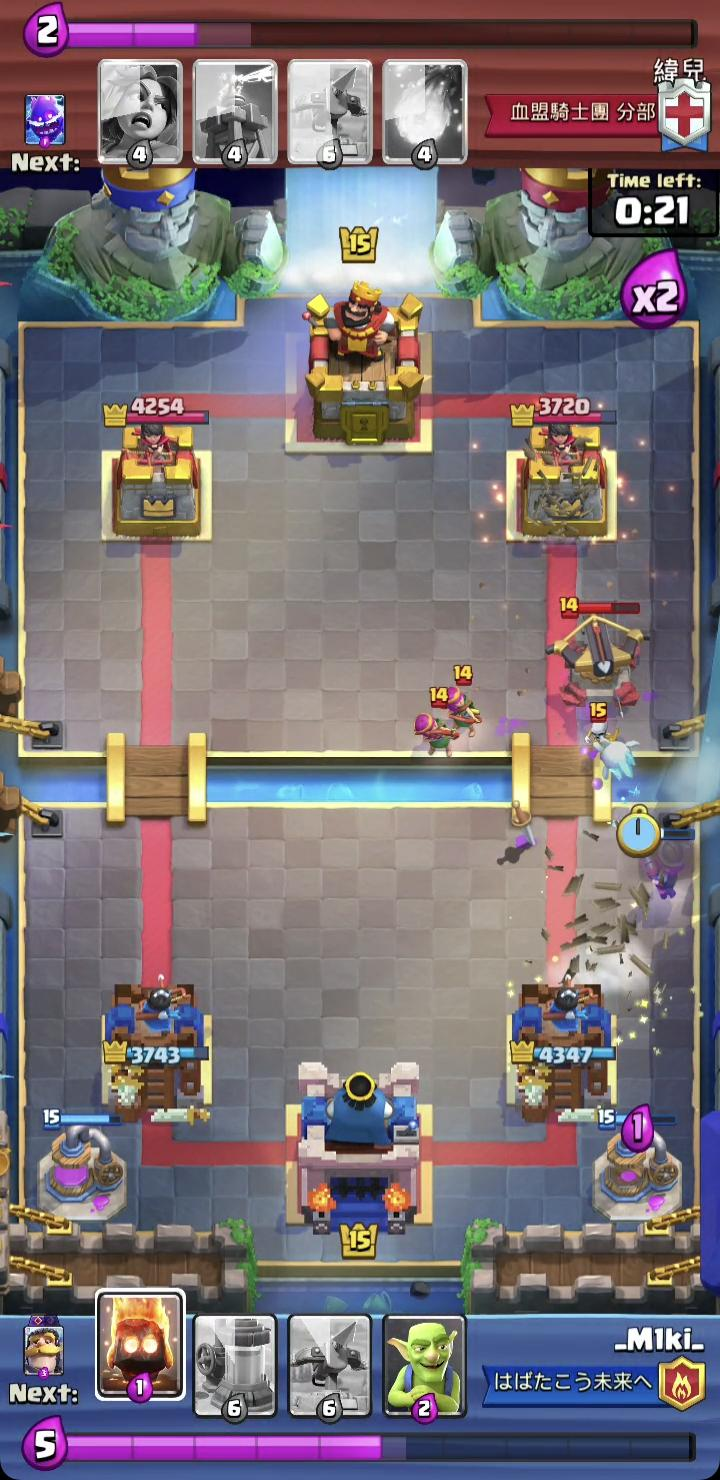ally_elixirpump: (591, 1106, 686, 1225), (35, 1108, 129, 1226)
ally_musketeer: (638, 816, 695, 902)
enemy_archer: (414, 684, 463, 757), (441, 665, 484, 744)
enemy_skeleton: (582, 703, 615, 761)
enemy_xbow: (543, 596, 654, 709)
